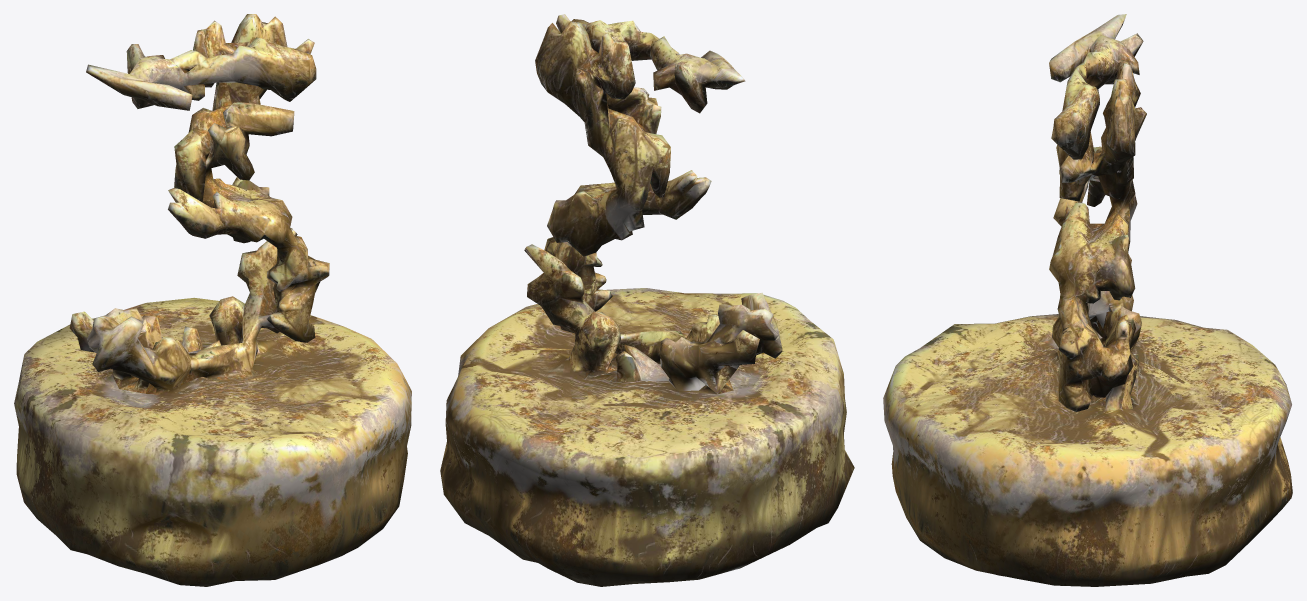
The model's file is trophee_nestle.glb.
3 renders of one model, left to right at view 1: azimuth 30°, elevation 25°; view 2: azimuth 150°, elevation 25°; view 3: azimuth 270°, elevation 25°, orthographic. The views are drawn at different scales.
Visible parts, largest first — view 1: trophee_nestle; view 2: trophee_nestle; view 3: trophee_nestle.
Part boxes in pixels (x1,y1,x2,y2): trophee_nestle: [14, 14, 411, 586]; trophee_nestle: [440, 14, 854, 586]; trophee_nestle: [883, 14, 1292, 586].
Bounding box in the file's own units: 0.9165 × 1.23 × 0.9605.
1 material, 1 textured.
